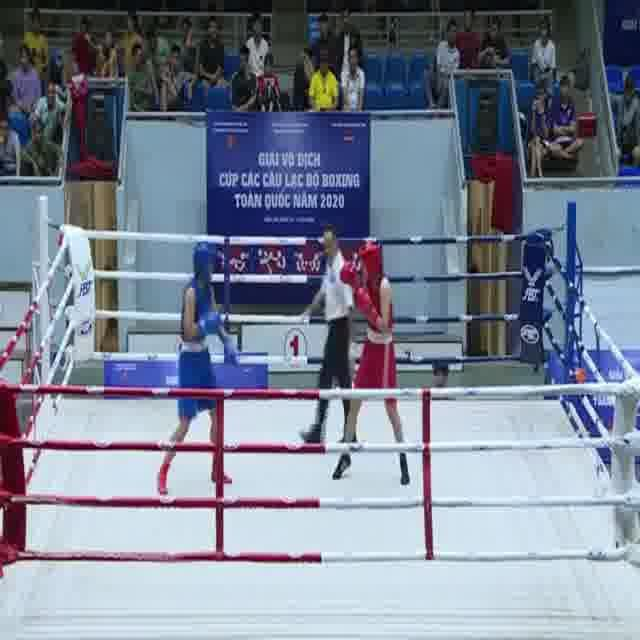blue-player: (156, 238, 242, 498)
red-player: (330, 236, 415, 489)
referee: (294, 221, 362, 451)
